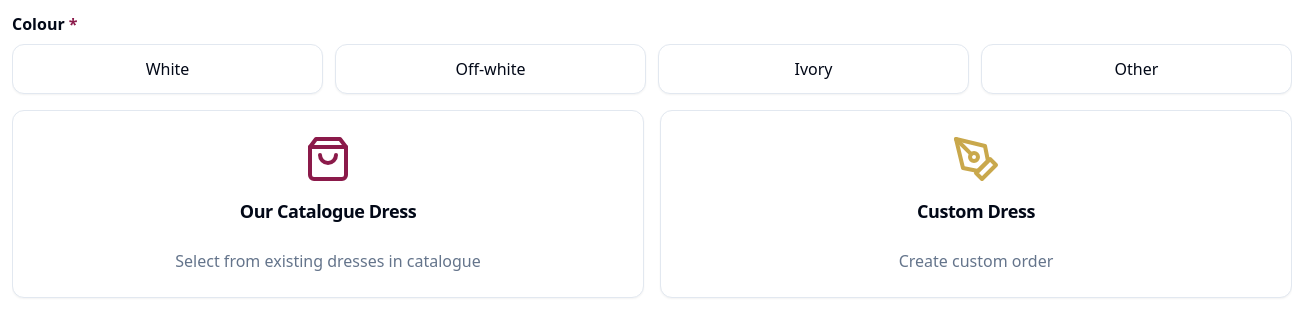
Section2DressSelect › should allow changing selection mode
This screenshot has width=1292, height=315.
Click the text "Our Catalogue Dress".
click(328, 211)  # box x1=240 y1=199 x2=416 y2=223
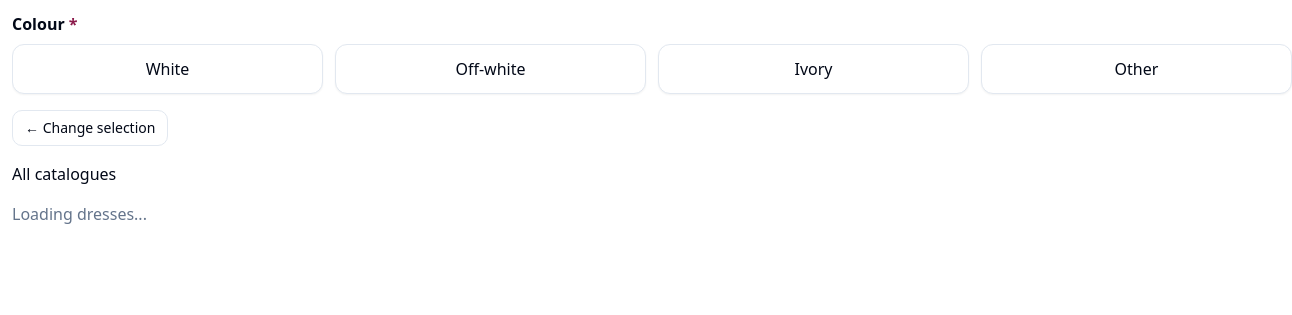
expect the button "← Change selection" is shown: met
Click the button "← Change selection".
click(90, 128)  # box x1=12 y1=110 x2=168 y2=146
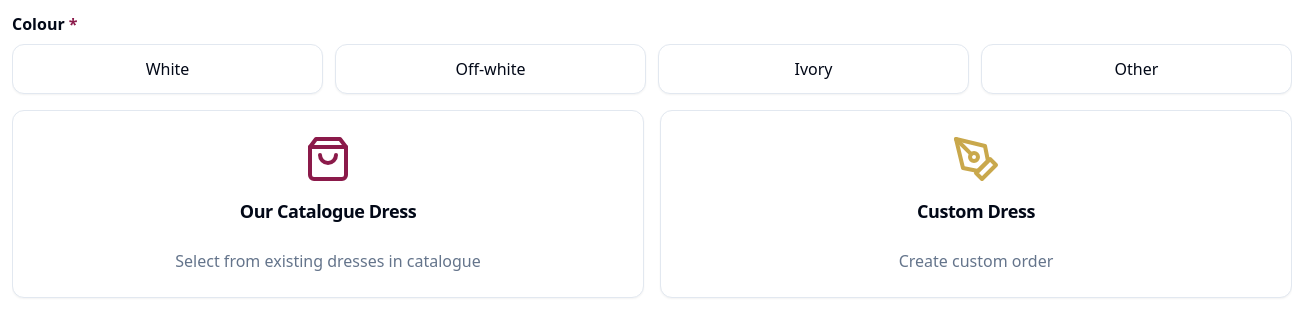
expect the text "Our Catalogue Dress" is shown: met, box x1=240 y1=199 x2=416 y2=223
expect the text "Custom Dress" is shown: met, box x1=917 y1=199 x2=1035 y2=223
